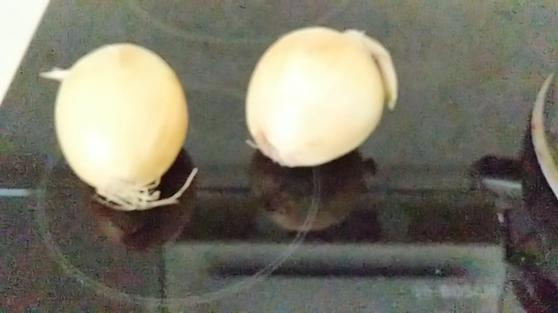onion: (42, 37, 189, 209), (243, 27, 399, 170)
